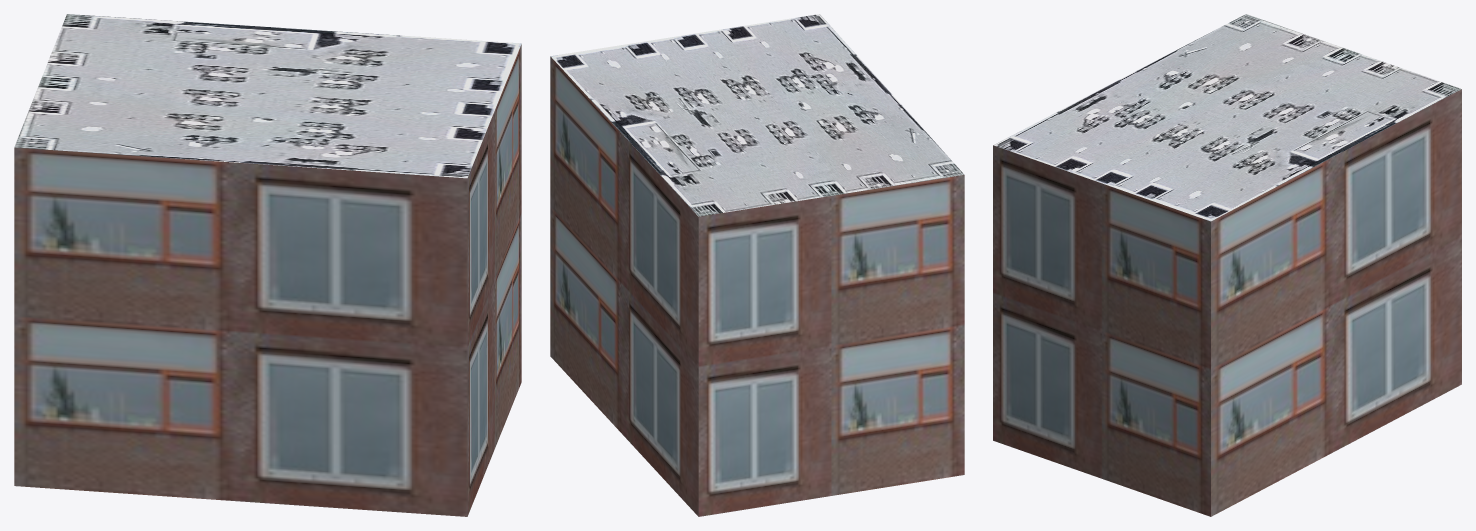
The model's file is ResTex__2109.fbx.
3 views of the same model, side by side, from view 1: azimuth 30°, elevation 25°; view 2: azimuth 150°, elevation 25°; view 3: azimuth 270°, elevation 25° (orthographic). The views are drawn at different scales.
Parts seen in each view (by area): view 1: CityEngineMaterial_19_m, CityEngineMaterial_m; view 2: CityEngineMaterial_19_m, CityEngineMaterial_m; view 3: CityEngineMaterial_19_m, CityEngineMaterial_m.
Boxes of the visible parts, x1,y1,x2,y2 form: CityEngineMaterial_19_m: (14, 44, 521, 516); CityEngineMaterial_m: (14, 14, 521, 178); CityEngineMaterial_19_m: (550, 56, 964, 516); CityEngineMaterial_m: (551, 14, 964, 216); CityEngineMaterial_19_m: (993, 89, 1461, 516); CityEngineMaterial_m: (993, 14, 1461, 221).
Bounding box in the file's own units: 9.04 × 6 × 8.63.
2 materials, 2 textured.
